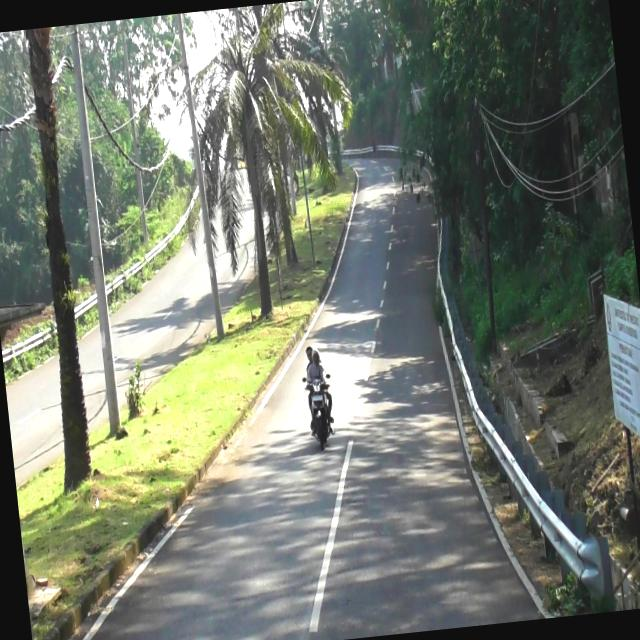motorcycle: (307, 377, 333, 452)
person: (305, 346, 328, 384), (302, 344, 315, 369)
rider_region: (298, 341, 336, 446)
